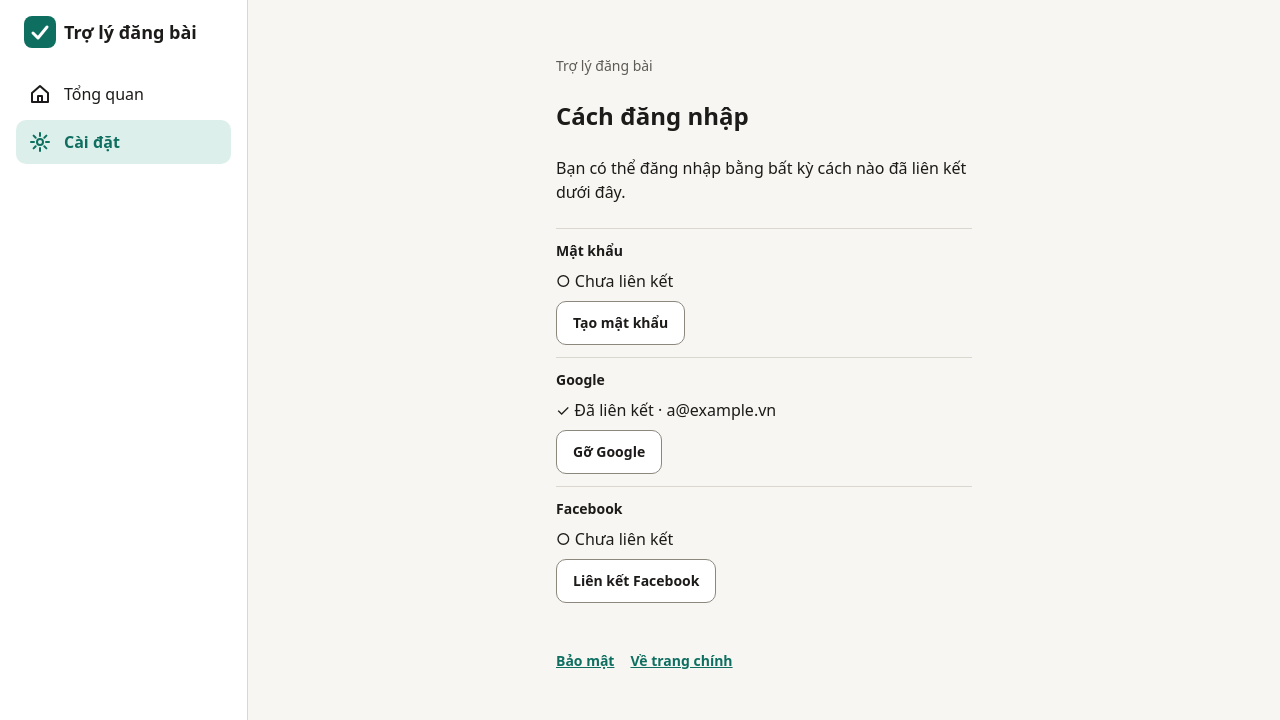
Test case: LoginMethodsPage › người chỉ có Google thấy nút "Tạo mật khẩu" → báo đã gửi thư
Step 1. Click the button "Tạo mật khẩu" → click(621, 323), box [556,301,685,345]
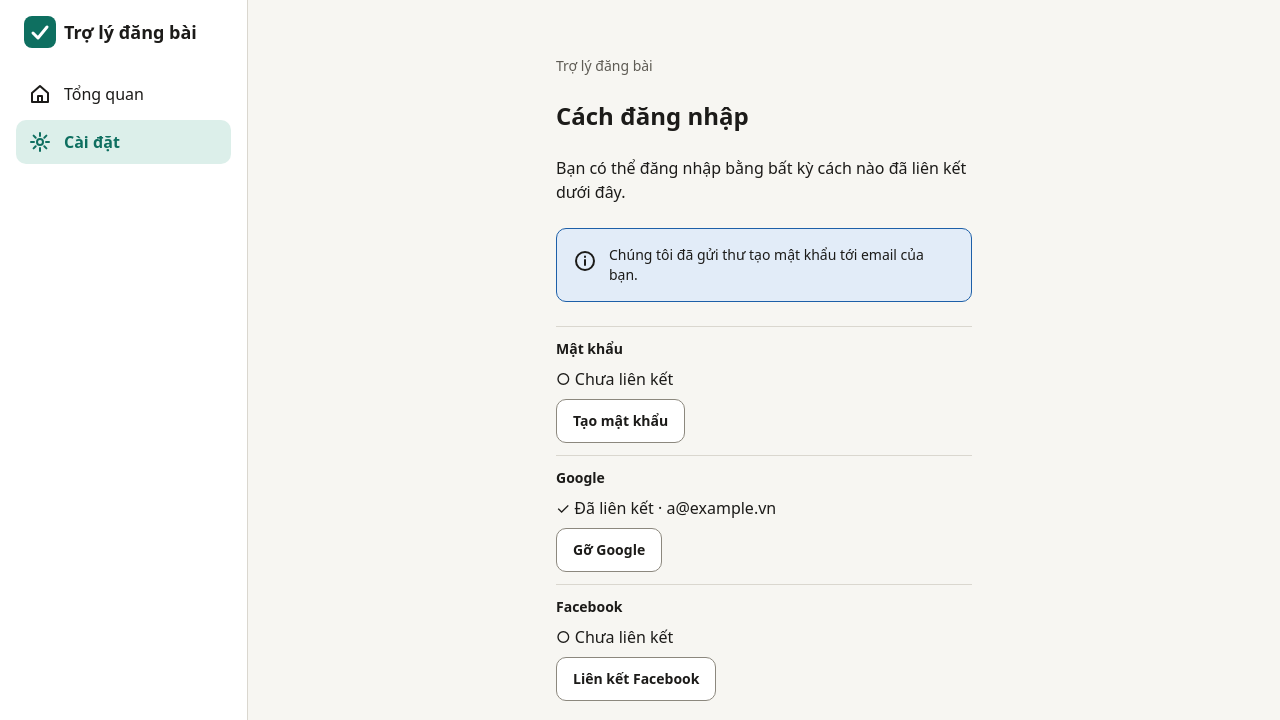
Result: the text "Chúng tôi đã gửi thư tạo mật khẩu tới email của bạn." is shown at [609,245,955,285]
